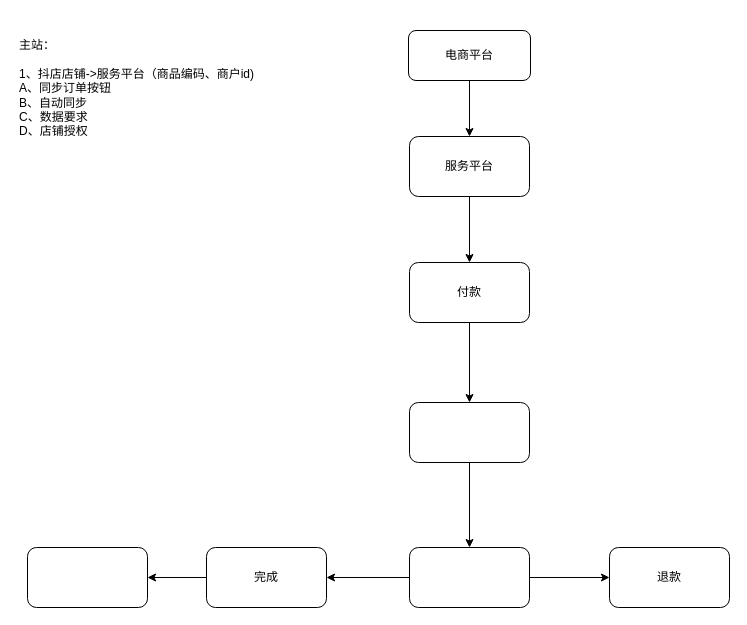
Image size: 747x625. Some labels were removed from this diagram. Here are the shapes that lost their labels. From the top down, the centre of each, then its label:
At (x=469, y=432): "待发货".
At (x=87, y=577): "结算".
At (x=469, y=577): "已发货".
